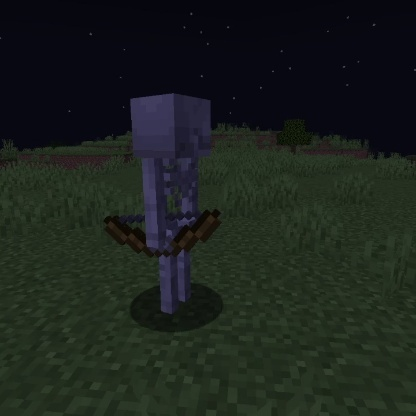skeleton: (101, 90, 226, 319)
